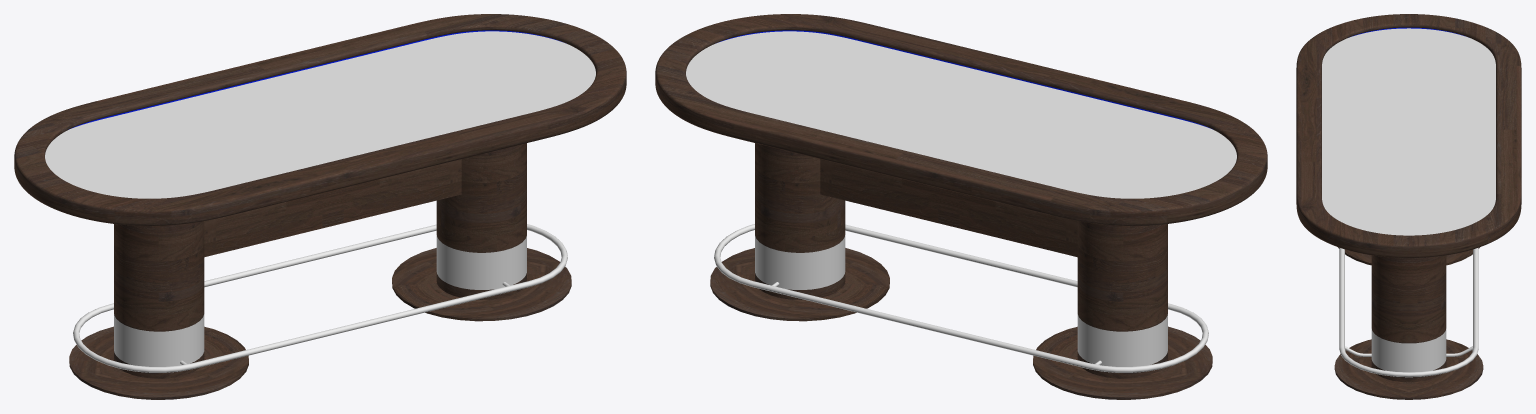
File: PokerTable.fbx
The picture shows the model from 3 angles, left to right: view 1: azimuth 30°, elevation 25°; view 2: azimuth 150°, elevation 25°; view 3: azimuth 270°, elevation 25°; orthographic projection. The views are drawn at different scales.
Visible parts, largest first — view 1: Table, Pied, Barre; view 2: Table, Pied, Barre; view 3: Table, Pied, Barre.
Part boxes in pixels (box(x1,y1,x2,y2)): Table: box(14, 14, 626, 225); Pied: box(69, 143, 571, 399); Barre: box(73, 224, 567, 372); Table: box(655, 14, 1267, 225); Pied: box(710, 143, 1212, 399); Barre: box(714, 224, 1208, 372); Table: box(1296, 14, 1521, 257); Pied: box(1334, 247, 1483, 399); Barre: box(1339, 247, 1478, 377).
Size of the model in its own units: 223 by 78.06 by 91.44.
